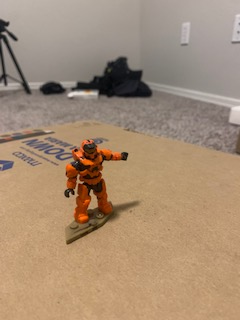soldier: (62, 138, 130, 223)
